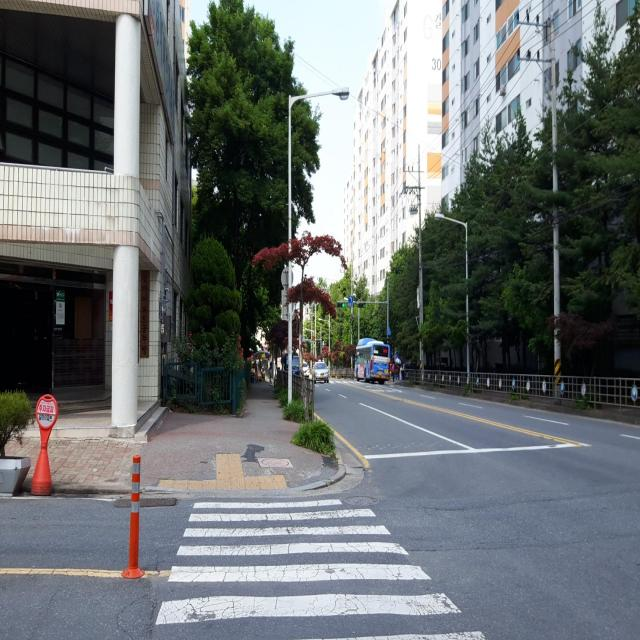횡단보도: (154, 495, 487, 640)
